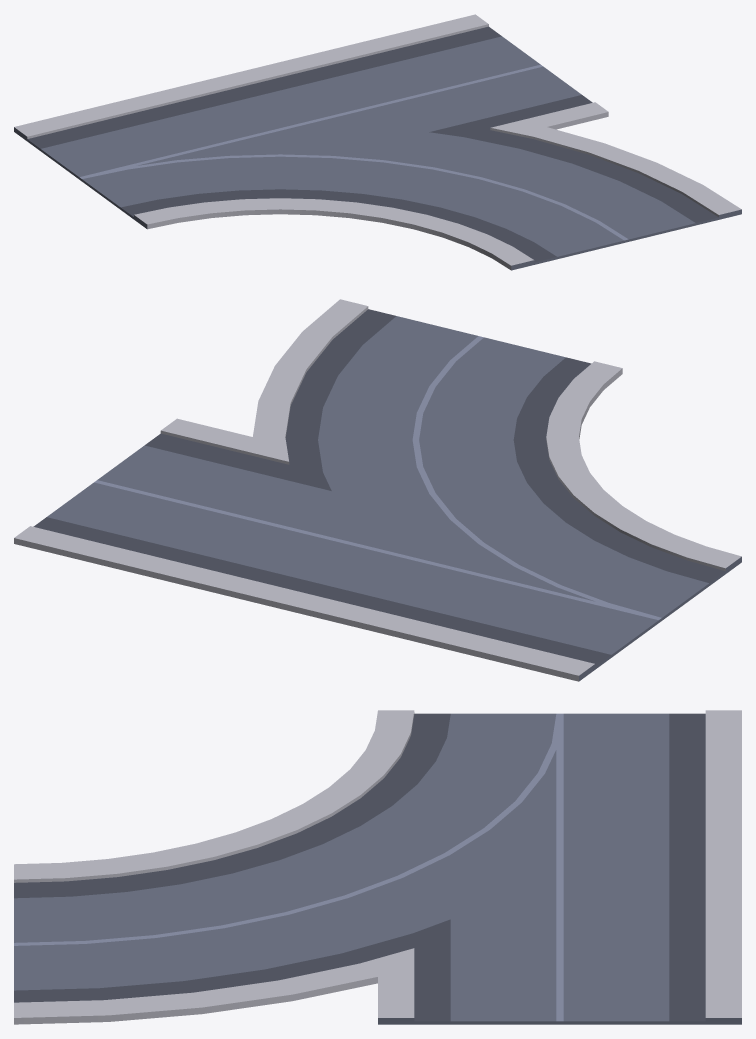
Rendered from road_curveIntersection.obj.
The picture shows the model from 3 angles, top to bottom: view 1: azimuth 30°, elevation 25°; view 2: azimuth 150°, elevation 25°; view 3: azimuth 270°, elevation 25°; orthographic projection. The views are drawn at different scales.
Parts seen in each view (by area): view 1: road_curveIntersection; view 2: road_curveIntersection; view 3: road_curveIntersection.
Boxes of the visible parts, <box> form: road_curveIntersection: <box>14,14,741,270</box>; road_curveIntersection: <box>14,299,741,681</box>; road_curveIntersection: <box>14,710,741,1024</box>.
Size of the model in its own units: 2 by 0.02 by 2.
